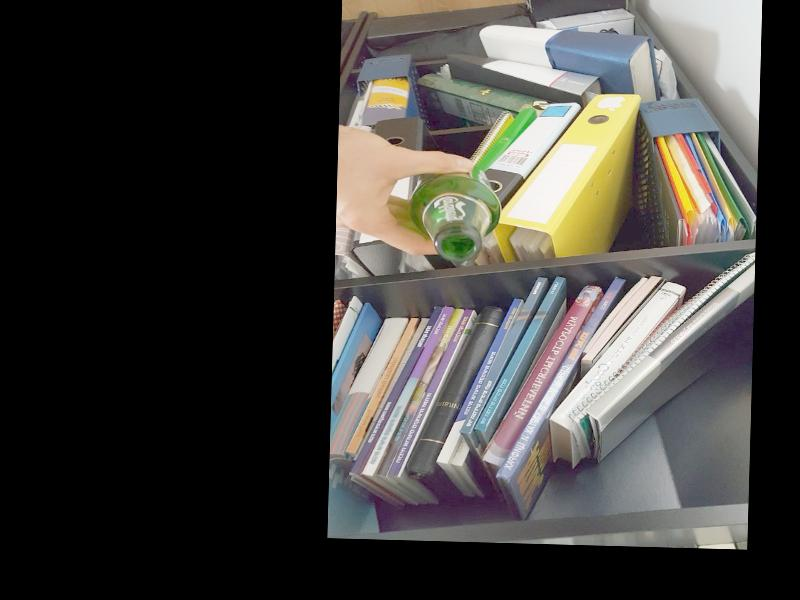Beer: (411, 163, 501, 260)
